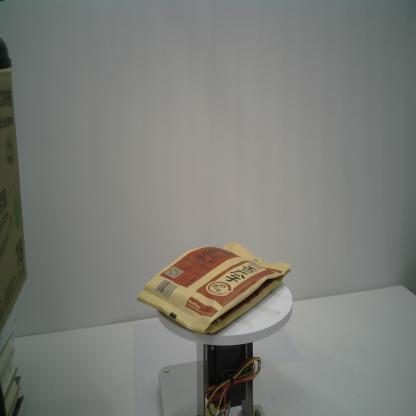Dried Food: (132, 240, 292, 334)
